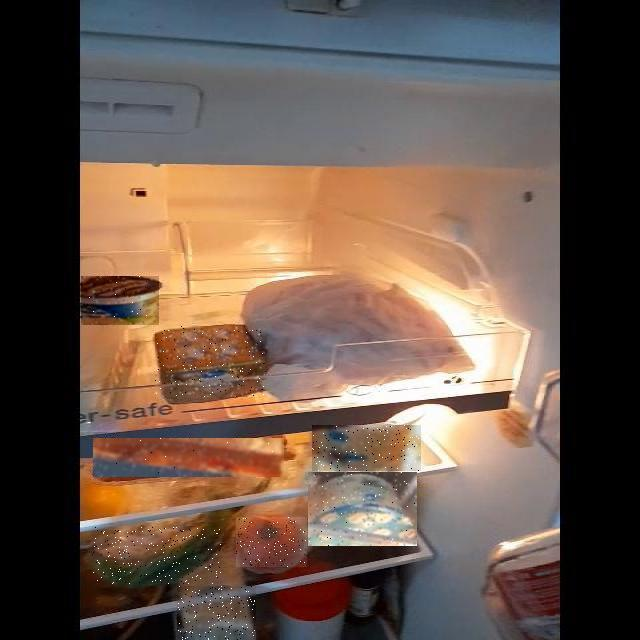Butter: (155, 326, 265, 397)
Carrot: (94, 438, 286, 477)
Chillies: (92, 527, 221, 584)
Milk: (177, 586, 256, 640)
Tomato Paste: (236, 517, 307, 567)
Yoghurt: (308, 472, 417, 546), (312, 425, 421, 471), (81, 276, 159, 325)
